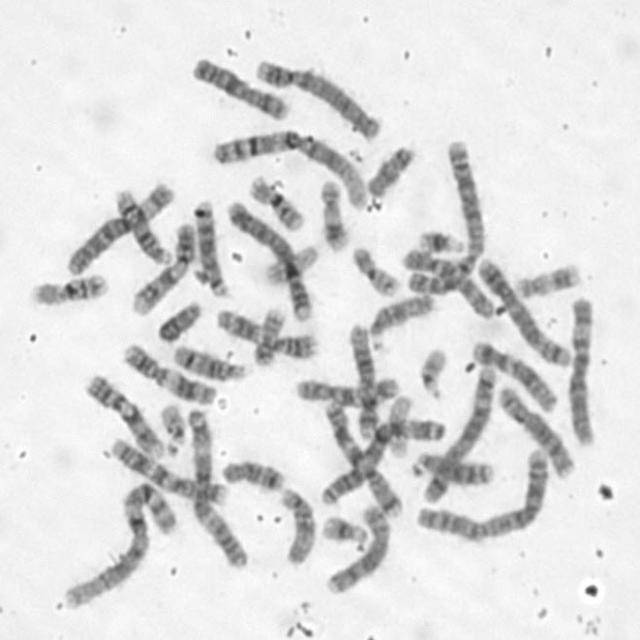A1: (58, 474, 182, 612), (206, 123, 373, 211)
A2: (409, 442, 551, 544), (403, 136, 489, 298)
A3: (316, 412, 449, 506), (181, 402, 251, 570)
B4: (222, 193, 316, 324), (251, 52, 385, 142)
B5: (417, 355, 500, 505), (474, 252, 574, 370)
C10: (398, 242, 497, 321), (290, 370, 404, 407)
C11: (118, 337, 220, 406), (210, 303, 322, 362)
C12: (468, 334, 560, 414), (344, 316, 382, 440)
C6: (62, 174, 177, 277), (564, 289, 602, 450)
C7: (319, 394, 406, 520), (106, 432, 232, 505)
C8: (493, 380, 579, 481), (321, 498, 392, 596)
C9: (80, 366, 168, 462), (126, 217, 197, 317)
D13: (189, 192, 233, 298), (408, 444, 498, 488)
D14: (110, 183, 174, 267), (168, 338, 250, 382)
D15: (365, 286, 439, 348), (274, 480, 320, 567)
E16: (245, 170, 309, 233), (26, 266, 111, 308)
E17: (509, 256, 584, 300), (314, 172, 352, 253)
E18: (363, 139, 418, 198), (217, 452, 287, 494)
F19: (258, 238, 322, 288), (382, 389, 414, 460)
F20: (347, 238, 402, 298), (249, 302, 288, 368)
G21: (318, 509, 370, 547), (414, 224, 467, 256)
G22: (414, 340, 452, 400), (155, 396, 190, 454)
X: (188, 50, 292, 122)
Y: (153, 294, 204, 344)
